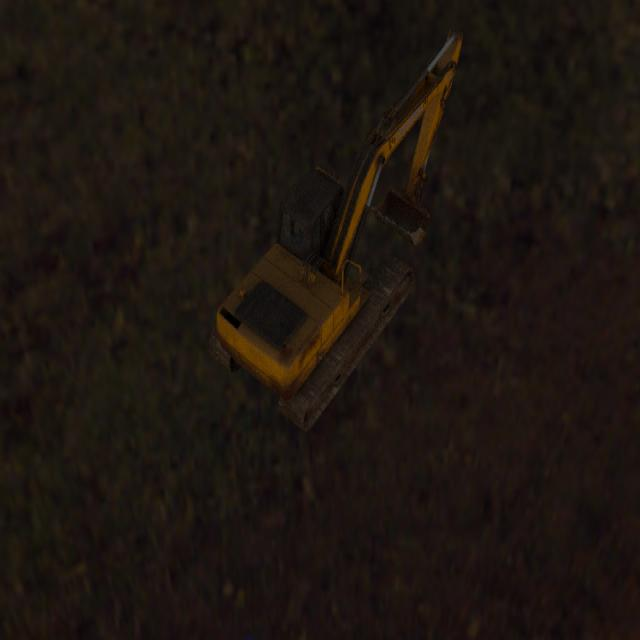excavator: (208, 25, 463, 432)
